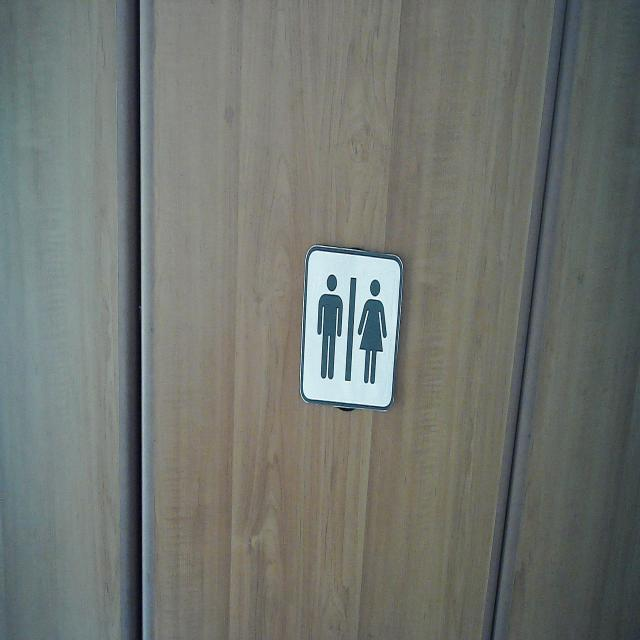restroom: (298, 240, 406, 412)
